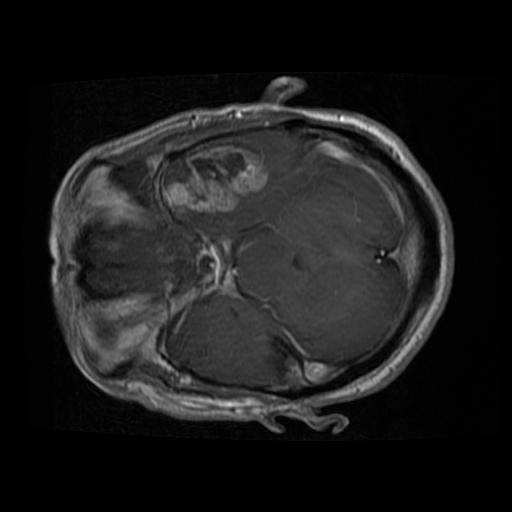glioma: (163, 144, 270, 215)
